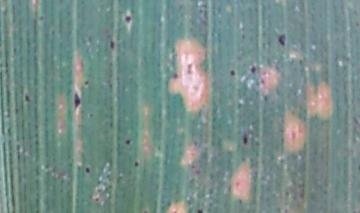tarspot: (274, 29, 288, 47), (70, 91, 83, 110), (239, 130, 253, 147), (120, 11, 136, 24), (22, 91, 33, 104), (122, 135, 133, 148), (247, 62, 257, 76), (171, 69, 181, 83), (130, 159, 141, 171), (106, 39, 118, 50), (82, 163, 92, 175), (193, 205, 208, 213), (82, 78, 92, 88), (228, 67, 237, 77)
